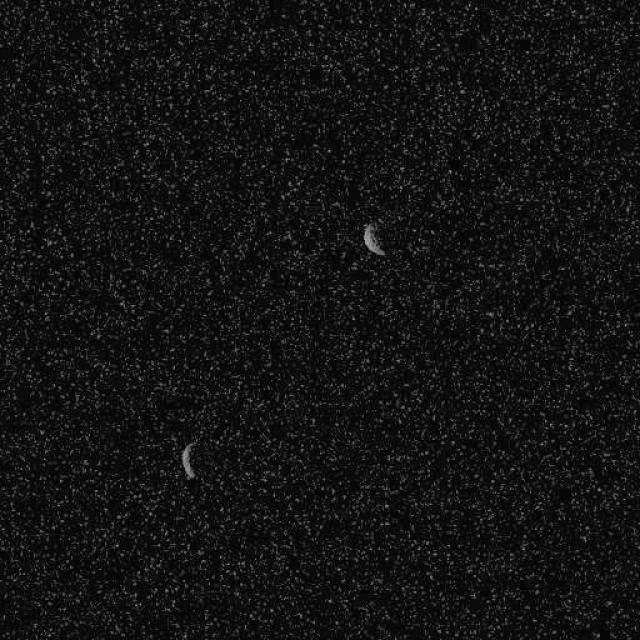D2: (362, 222, 386, 256), (178, 440, 198, 480)
